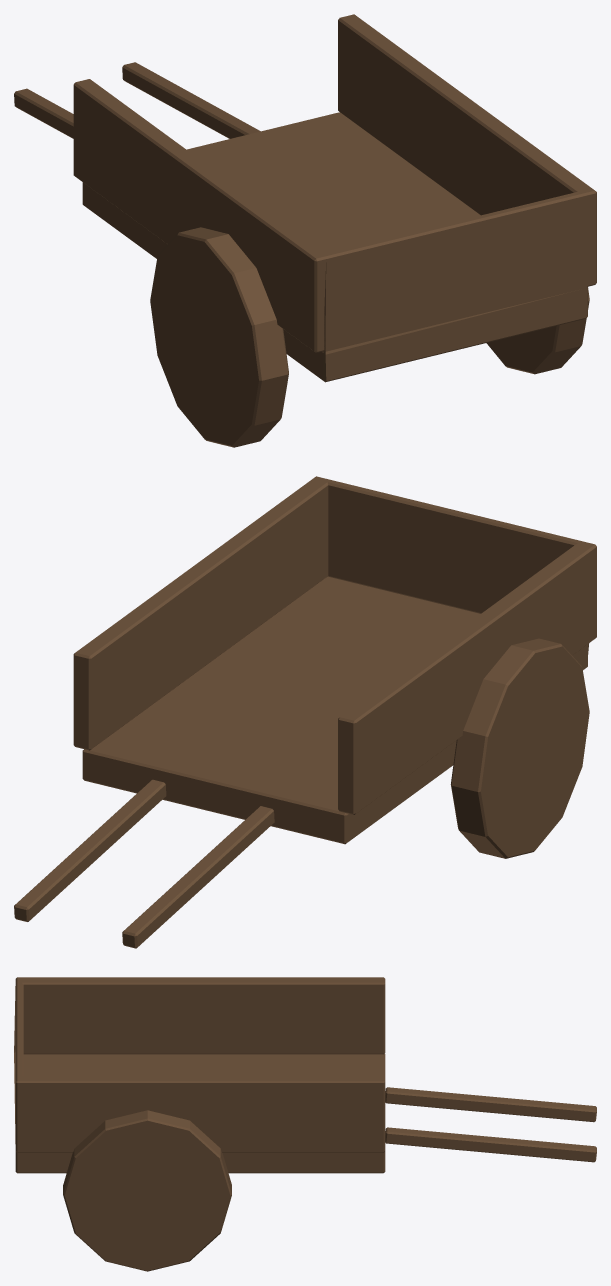
Rendered from cart.fbx.
3 renders of one model, top to bottom at view 1: azimuth 30°, elevation 25°; view 2: azimuth 150°, elevation 25°; view 3: azimuth 270°, elevation 25°, orthographic. The views are drawn at different scales.
Parts seen in each view (by area): view 1: cart; view 2: cart; view 3: cart.
Part boxes in pixels (x1,y1,x2,y2): cart: [14, 14, 596, 447]; cart: [14, 476, 596, 948]; cart: [14, 977, 596, 1271].
Bounding box in the file's own units: 550 × 380 × 1104.
